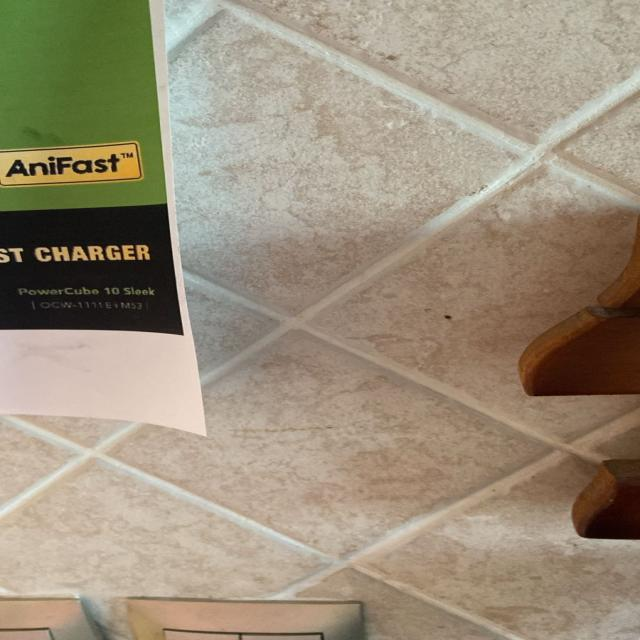PowerCube 10 Sleek OCW-1111ExM53: (11, 285, 163, 316)
